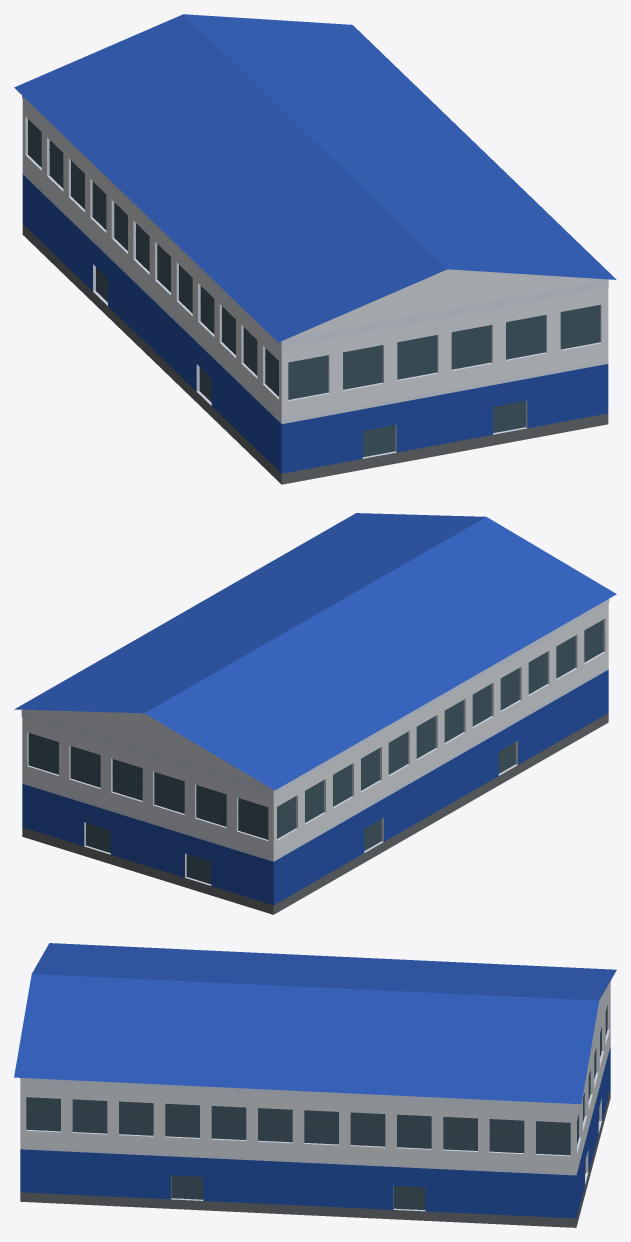
3 views of the same model, one above another, from view 1: azimuth 30°, elevation 25°; view 2: azimuth 150°, elevation 25°; view 3: azimuth 270°, elevation 25° (orthographic). The views are drawn at different scales.
Parts seen in each view (by area): view 1: hall2__roof-metal, hall2__wall-plaster, hall2__brick, hall2__glass, hall2__trim-concrete, hall2__base-stone, hall2__frame; view 2: hall2__roof-metal, hall2__wall-plaster, hall2__brick, hall2__glass, hall2__trim-concrete, hall2__base-stone, hall2__frame; view 3: hall2__roof-metal, hall2__brick, hall2__wall-plaster, hall2__glass, hall2__trim-concrete, hall2__base-stone, hall2__frame.
Part boxes in pixels (left/top/right/bottom): hall2__roof-metal: left=14, top=14, right=616, bottom=342; hall2__wall-plaster: left=22, top=99, right=608, bottom=420; hall2__brick: left=22, top=174, right=608, bottom=473; hall2__glass: left=28, top=119, right=600, bottom=457; hall2__trim-concrete: left=22, top=95, right=608, bottom=458; hall2__base-stone: left=22, top=224, right=608, bottom=484; hall2__frame: left=27, top=122, right=600, bottom=456; hall2__roof-metal: left=14, top=513, right=616, bottom=790; hall2__wall-plaster: left=22, top=603, right=608, bottom=858; hall2__brick: left=22, top=669, right=608, bottom=905; hall2__glass: left=28, top=620, right=603, bottom=884; hall2__trim-concrete: left=21, top=599, right=609, bottom=885; hall2__base-stone: left=22, top=713, right=608, bottom=914; hall2__frame: left=28, top=622, right=603, bottom=882; hall2__roof-metal: left=14, top=943, right=616, bottom=1104; hall2__brick: left=20, top=1046, right=610, bottom=1218; hall2__wall-plaster: left=20, top=983, right=610, bottom=1172; hall2__glass: left=26, top=1005, right=607, bottom=1210; hall2__trim-concrete: left=20, top=980, right=610, bottom=1211; hall2__base-stone: left=20, top=1089, right=610, bottom=1227; hall2__frame: left=26, top=1007, right=607, bottom=1209.
Size of the model in its own units: 32.98 by 15.52 by 52.11.
